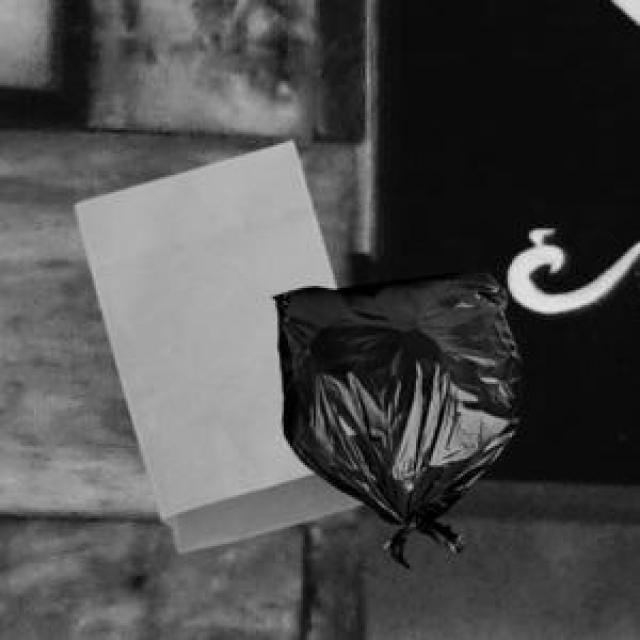miscellaneous trash: (269, 267, 516, 565)
paper: (70, 137, 361, 548)
